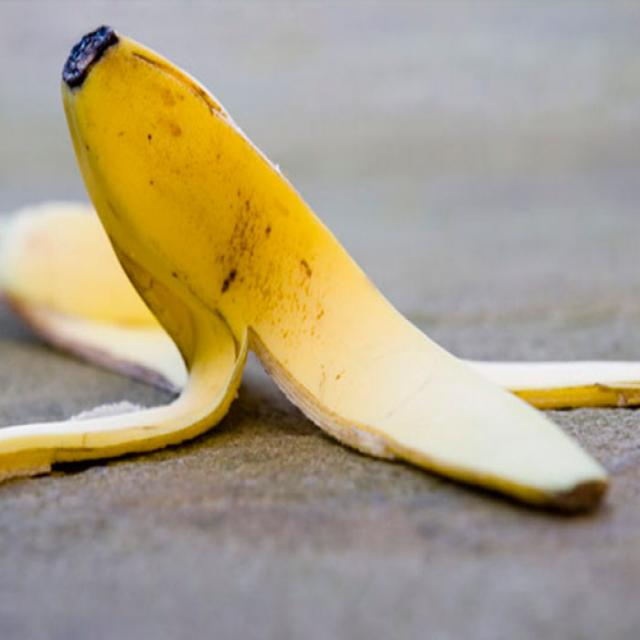Cascara de banano: (0, 22, 610, 511)
